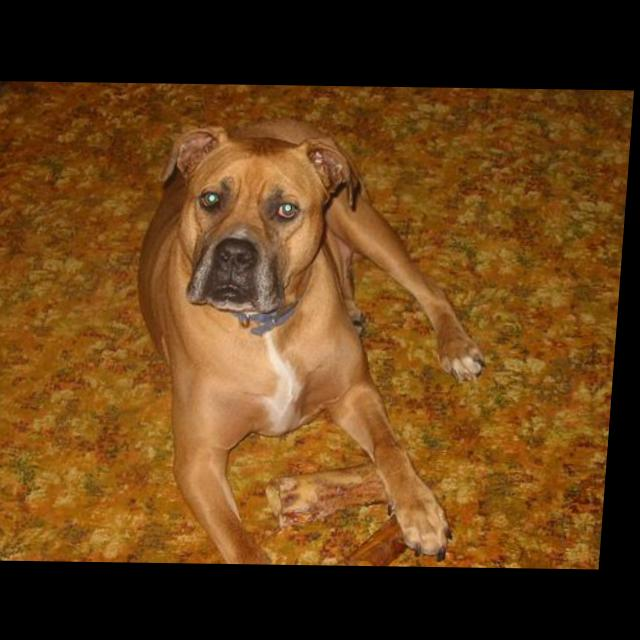bullmastiff: (124, 114, 507, 566)
